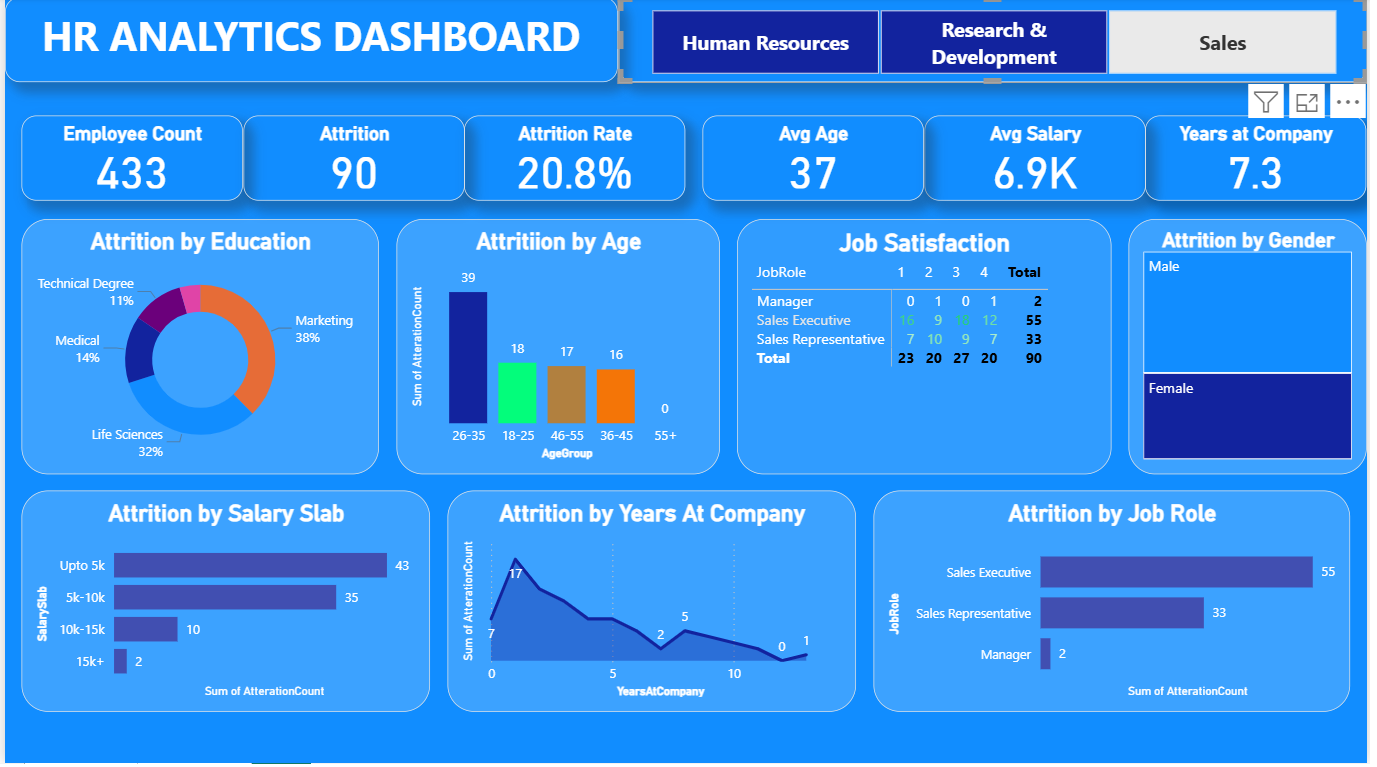

Layout of this report page (visuals, bound fields, positions):
{"tool":"powerbi","page":{"name":"Page 1","canvas":[1280,720],"ordinal":0},"visuals":[{"type":"card","title":"Employee Count","fields":{"Values":["CountNonNull(HR_Analytics.EmpID)"]},"box":[16,112,208,80],"z":0},{"type":"donutChart","title":"Attrition by Education","fields":{"Category":["HR_Analytics.EducationField"],"Y":["Sum(HR_Analytics.AtterationCount)"]},"box":[16,208,336,240],"z":1000},{"type":"card","title":"Attrition","fields":{"Values":["Sum(HR_Analytics.AtterationCount)"]},"box":[224,112,208,80],"z":2000},{"type":"columnChart","title":"Attritiion by Age","fields":{"Category":["HR_Analytics.AgeGroup"],"Y":["Sum(HR_Analytics.AtterationCount)"]},"box":[368,208,304,240],"z":3000},{"type":"card","title":"Attrition Rate","fields":{"Values":["HR_Analytics.AttritionRate"]},"box":[432,112,208,80],"z":4000},{"type":"pivotTable","title":"Job Satisfaction ","fields":{"Rows":["HR_Analytics.JobRole"],"Columns":["HR_Analytics.JobSatisfaction"],"Values":["Sum(HR_Analytics.AtterationCount)"]},"box":[688,208,352,240],"z":5000},{"type":"barChart","title":"Attrition by Salary Slab","fields":{"Category":["HR_Analytics.SalarySlab"],"Y":["Sum(HR_Analytics.AtterationCount)"]},"box":[16,464,384,208],"z":6000},{"type":"card","title":"Avg Salary","fields":{"Values":["Avg(HR_Analytics.MonthlyIncome)"]},"box":[864,112,208,80],"z":7000},{"type":"barChart","title":"Attrition by Job Role","fields":{"Y":["Sum(HR_Analytics.AtterationCount)"],"Category":["HR_Analytics.JobRole"]},"box":[816,464,448,208],"z":8000},{"type":"card","title":"Years at Company","fields":{"Values":["Avg(HR_Analytics.YearsAtCompany)"]},"box":[1072,112,208,80],"z":9000},{"type":"areaChart","title":"Attrition by Years At Company","fields":{"Category":["HR_Analytics.YearsAtCompany"],"Y":["Sum(HR_Analytics.AtterationCount)"]},"box":[416,464,384,208],"z":10000},{"type":"treemap","title":"Attrition by Gender","fields":{"Group":["HR_Analytics.Gender"],"Values":["Sum(HR_Analytics.AtterationCount)"]},"box":[1056,208,224,240],"z":11000},{"type":"slicer","fields":{"Values":["HR_Analytics.Department"]},"box":[576,0,704,80],"z":12000},{"type":"textbox","box":[0,0,576,80],"z":13000},{"type":"card","title":"Avg Age","fields":{"Values":["Avg(HR_Analytics.Age)"]},"box":[656,112,208,80],"z":14000}]}

Visuals, with their boxes in screenshot pixels (x1, y1, x2, y2), scaled from the page's 1280x720 canvas onto the 1377x767 screenshot:
"Employee Count" card: <box>17,119,241,205</box>
"Attrition by Education" donutChart: <box>17,222,379,477</box>
"Attrition" card: <box>241,119,465,205</box>
"Attritiion by Age" columnChart: <box>396,222,723,477</box>
"Attrition Rate" card: <box>465,119,688,205</box>
"Job Satisfaction " pivotTable: <box>740,222,1119,477</box>
"Attrition by Salary Slab" barChart: <box>17,494,430,716</box>
"Avg Salary" card: <box>929,119,1153,205</box>
"Attrition by Job Role" barChart: <box>878,494,1360,716</box>
"Years at Company" card: <box>1153,119,1376,205</box>
"Attrition by Years At Company" areaChart: <box>448,494,861,716</box>
"Attrition by Gender" treemap: <box>1136,222,1376,477</box>
slicer - HR_Analytics.Department: <box>620,0,1376,85</box>
textbox: <box>0,0,620,85</box>
"Avg Age" card: <box>706,119,929,205</box>
